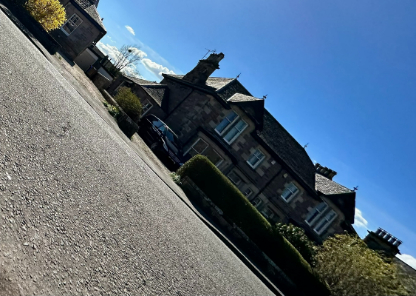car: (137, 107, 190, 170)
